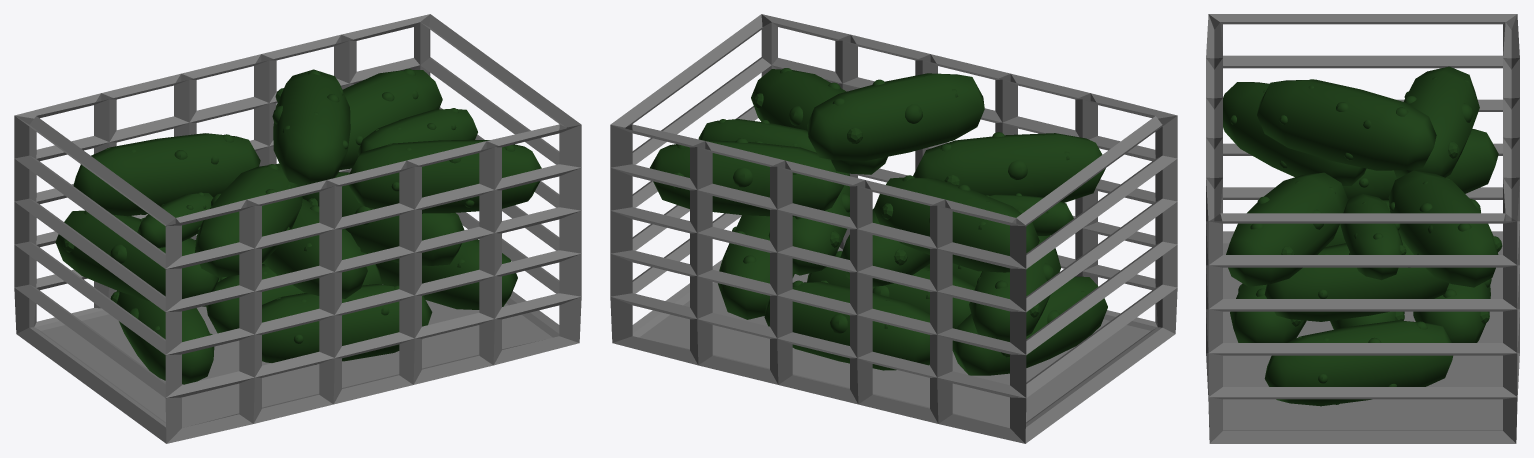
The model's file is box of cucumbers.fbx.
3 views of the same model, side by side, from view 1: azimuth 30°, elevation 25°; view 2: azimuth 150°, elevation 25°; view 3: azimuth 270°, elevation 25° (orthographic). The views are drawn at different scales.
Visible parts, largest first — view 1: Cube, Cube.010, Cube.013, Cube.011, Cube.002, Cube.008, Cube.009, Cube.012, Cube.004, Cube.006, Cube.007, Cube.005 (+3 smaller); view 2: Cube, Cube.013, Cube.009, Cube.012, Cube.010, Cube.003, Cube.004, Cube.011, Cube.005, Cube.008, Cube.006, Cube.001 (+3 smaller); view 3: Cube, Cube.013, Cube.005, Cube.011, Cube.012, Cube.006, Cube.010, Cube.009, Cube.008, Cube.014, Cube.002, Cube.003 (+1 smaller).
Boxes of the visible parts, x1,y1,x2,y2 form: Cube: [14, 14, 581, 443]; Cube.010: [73, 133, 260, 216]; Cube.013: [272, 69, 350, 185]; Cube.011: [348, 140, 541, 213]; Cube.002: [262, 284, 432, 362]; Cube.008: [55, 210, 218, 301]; Cube.009: [195, 163, 302, 277]; Cube.012: [340, 69, 442, 169]; Cube.004: [110, 290, 214, 384]; Cube.006: [302, 172, 464, 265]; Cube.007: [263, 198, 367, 298]; Cube.005: [376, 239, 517, 309]; Cube: [610, 14, 1177, 443]; Cube.013: [807, 73, 984, 161]; Cube.009: [913, 132, 1105, 202]; Cube.012: [650, 138, 843, 216]; Cube.010: [873, 175, 1039, 272]; Cube.003: [764, 280, 929, 370]; Cube.004: [952, 276, 1107, 375]; Cube.011: [751, 68, 887, 174]; Cube.005: [718, 215, 794, 319]; Cube.008: [969, 235, 1060, 341]; Cube.006: [768, 171, 849, 275]; Cube.001: [807, 251, 975, 328]; Cube: [1206, 14, 1519, 443]; Cube.013: [1257, 79, 1436, 170]; Cube.005: [1264, 320, 1452, 406]; Cube.011: [1226, 172, 1347, 286]; Cube.012: [1388, 170, 1502, 287]; Cube.006: [1264, 238, 1449, 321]; Cube.010: [1394, 66, 1479, 178]; Cube.009: [1223, 82, 1366, 185]; Cube.008: [1343, 129, 1498, 199]; Cube.014: [1340, 194, 1406, 280]; Cube.002: [1230, 283, 1306, 342]; Cube.003: [1413, 279, 1491, 342].
Bounding box in the file's own units: 331 × 189 × 211.
